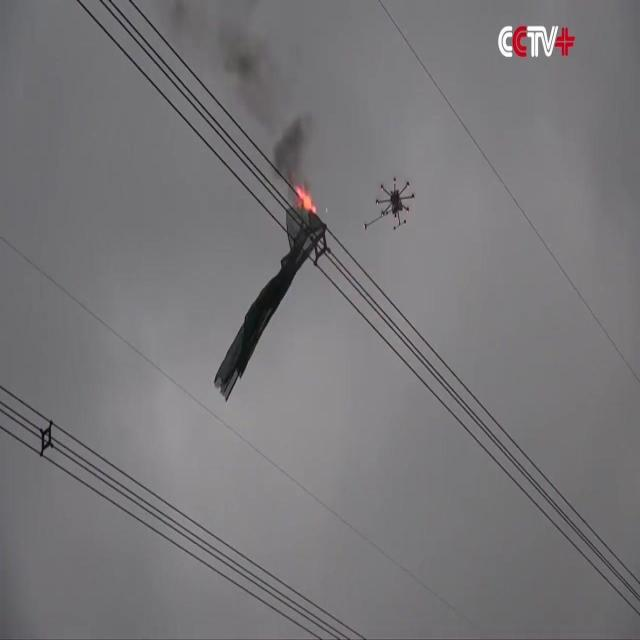drone: (374, 174, 418, 234)
